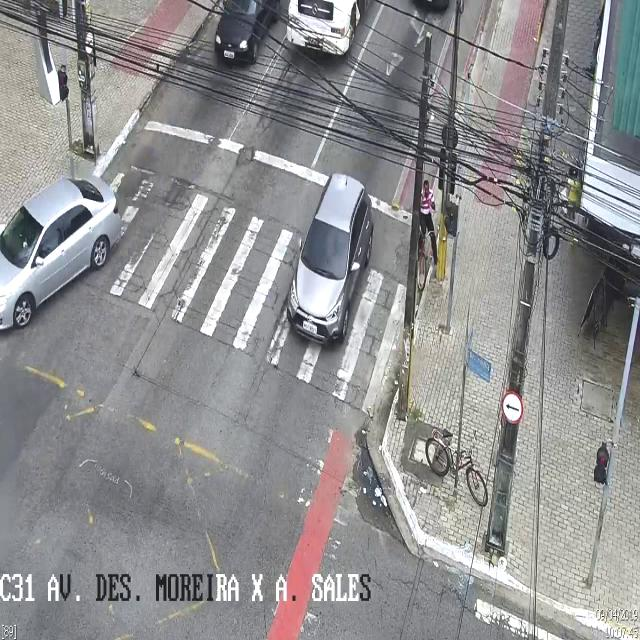Car: (0, 172, 121, 334), (286, 172, 372, 348), (217, 0, 275, 70)
Truck: (287, 0, 361, 52)
